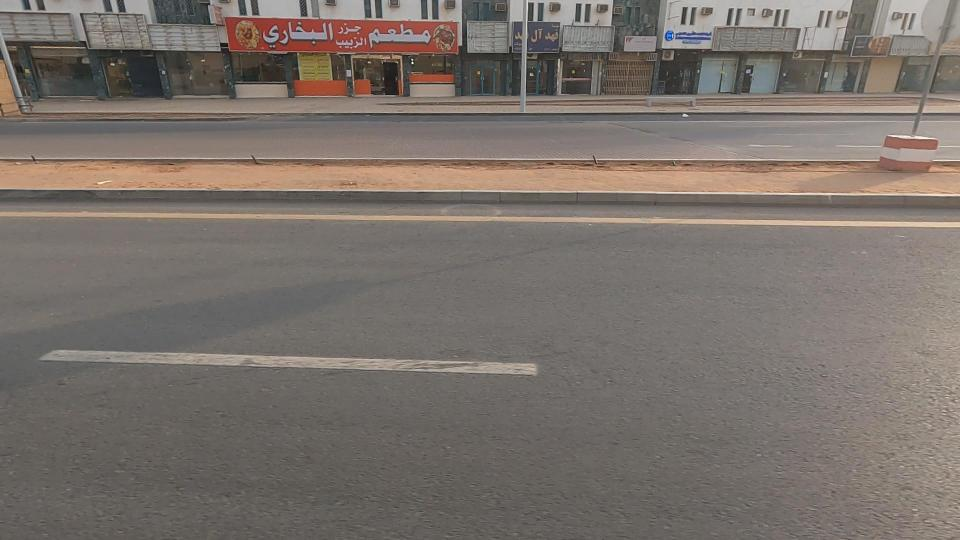BAD_BILLBOARD: (825, 12, 918, 86)
